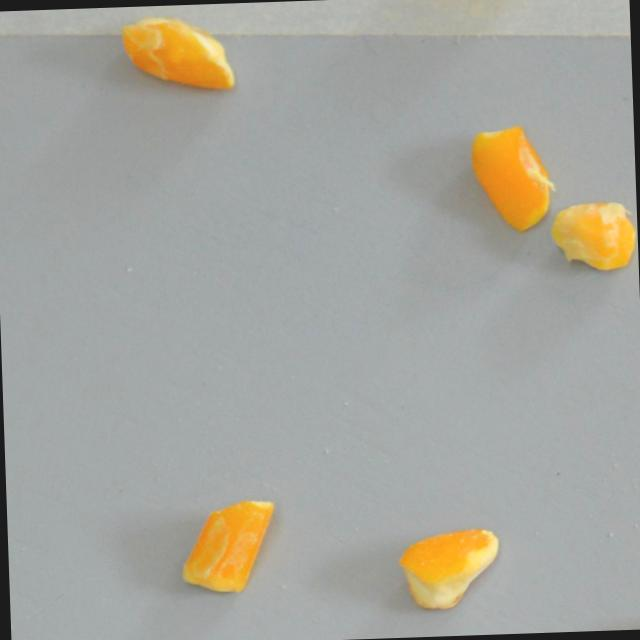pelicula: (117, 3, 234, 106), (469, 113, 559, 238), (175, 492, 280, 597), (395, 519, 506, 617), (549, 192, 639, 279)
